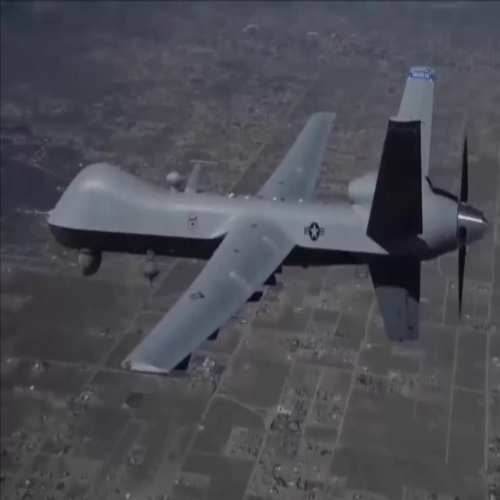uav: (47, 64, 497, 377)
